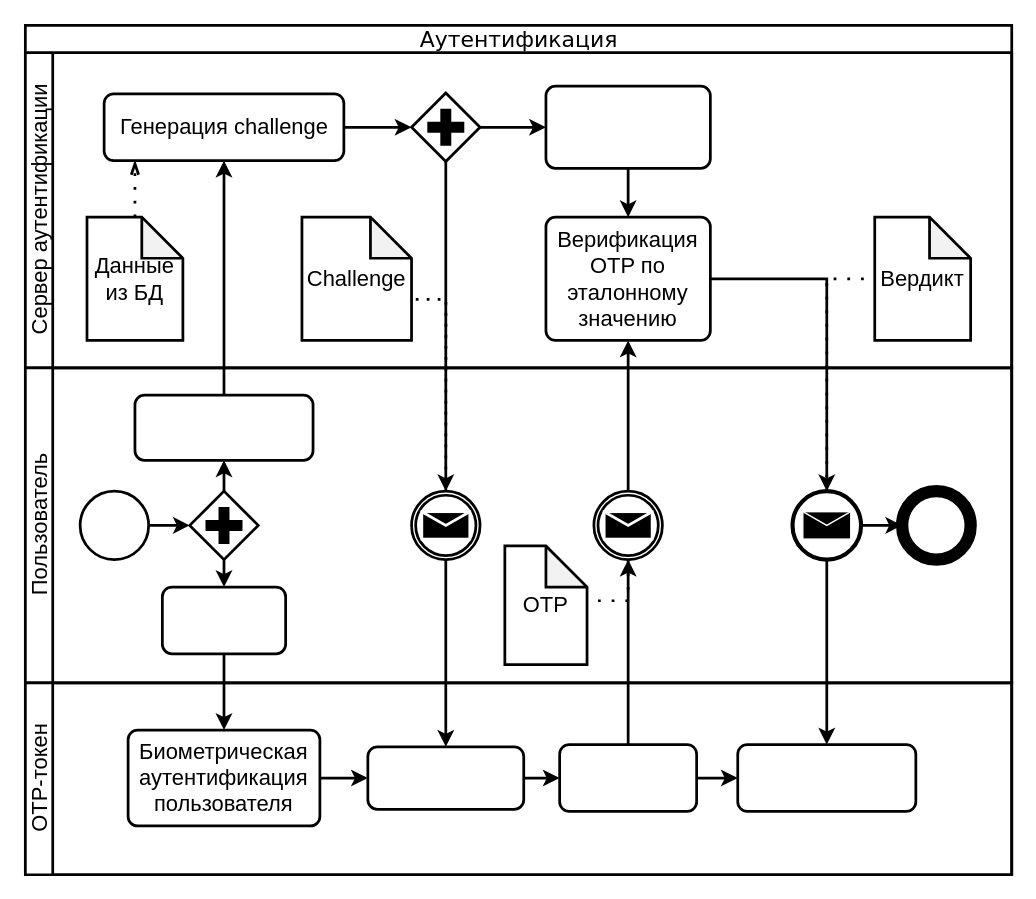
The diagram is 1036 pixels wide and 899 high, and some of its shapes have lost their labels. The box of each missing label's shape, as (x1, y1, x2, y2) in pixels:
Активация токена: (160, 585, 286, 655)
Верификация challenge: (366, 745, 524, 810)
Вычисление OTP: (558, 743, 697, 812)
Вычисление эталонного OTP: (544, 84, 711, 169)
Инициализация входа: (133, 393, 314, 461)
Синхронизация токена: (736, 743, 917, 812)
